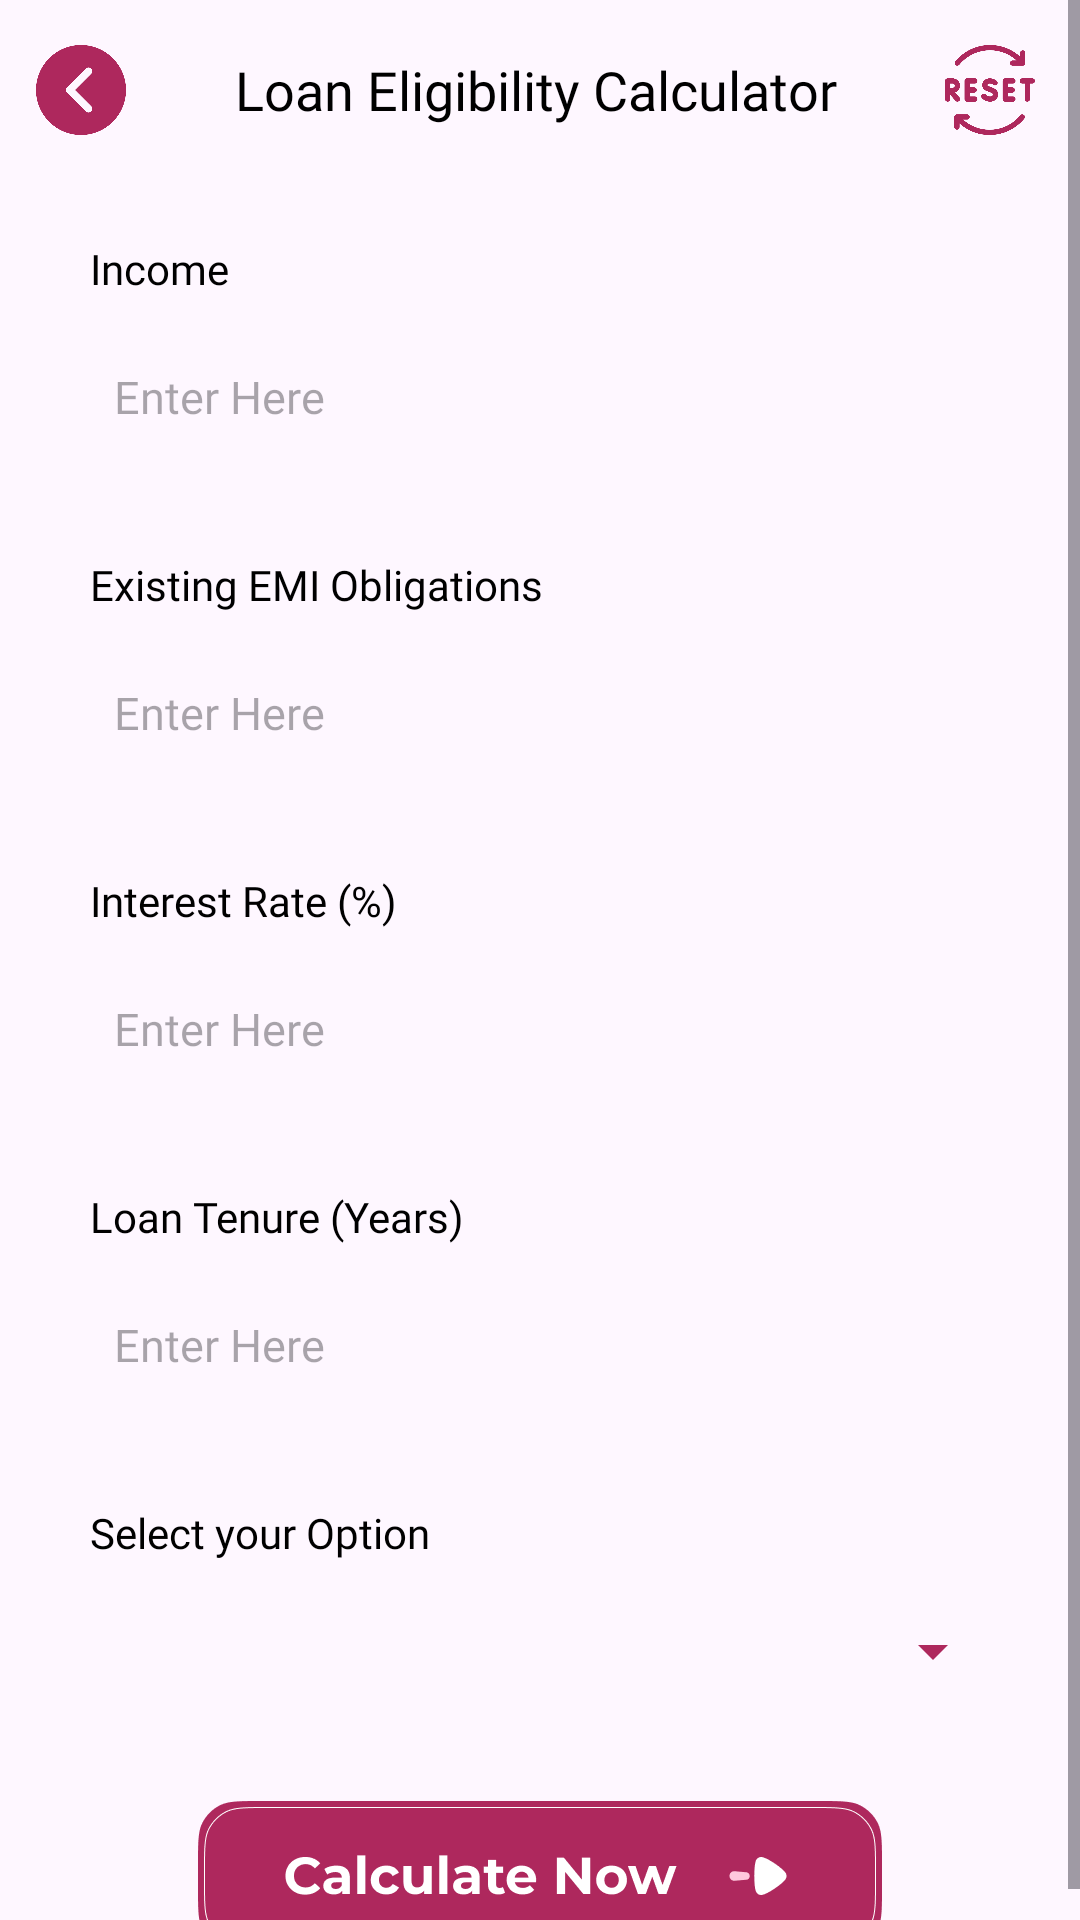

Where to tap for icons on this 1080×1920 app screen, as (x=x, y=y):
back: (x=81, y=90)
